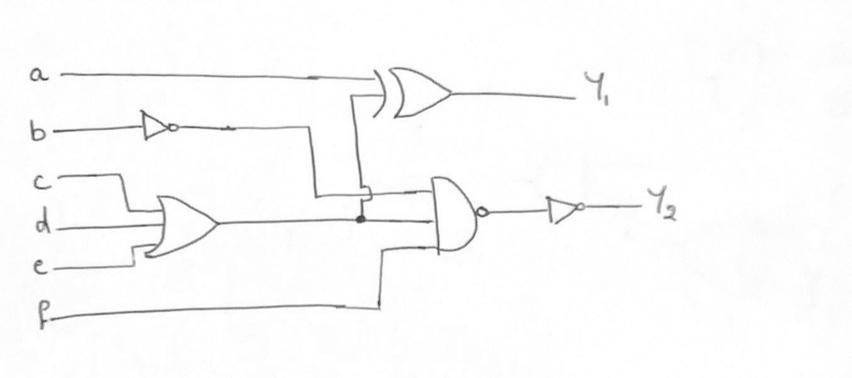NAND: (420, 168, 501, 263)
NOT: (538, 185, 589, 231), (133, 106, 183, 147)
OR: (142, 186, 225, 267)
XOR: (363, 58, 464, 130)
